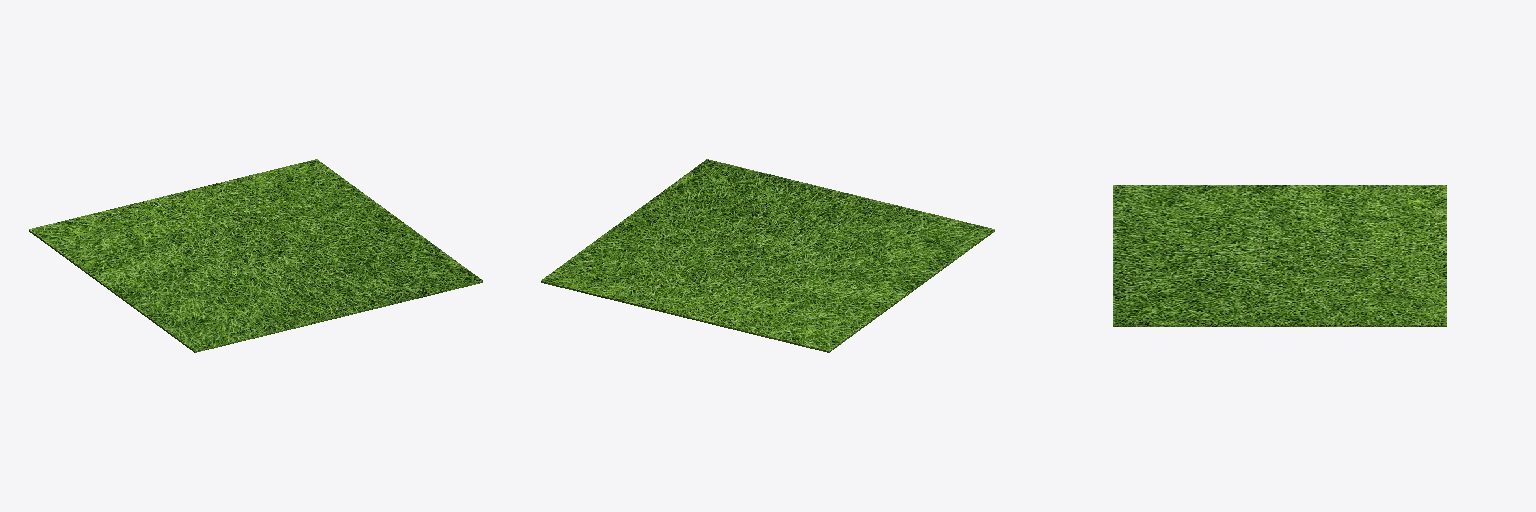
3 views of the same model, side by side, from view 1: azimuth 30°, elevation 25°; view 2: azimuth 150°, elevation 25°; view 3: azimuth 270°, elevation 25° (orthographic).
Parts seen in each view (by area): view 1: pCube1; view 2: pCube1; view 3: pCube1.
Part boxes in pixels (bbox=[...]): pCube1: bbox=[29, 159, 482, 352]; pCube1: bbox=[541, 159, 994, 352]; pCube1: bbox=[1113, 185, 1446, 326].
Size of the model in its own units: 73.45 by 0.4297 by 73.45.
Materials: 1 (1 with a texture image).